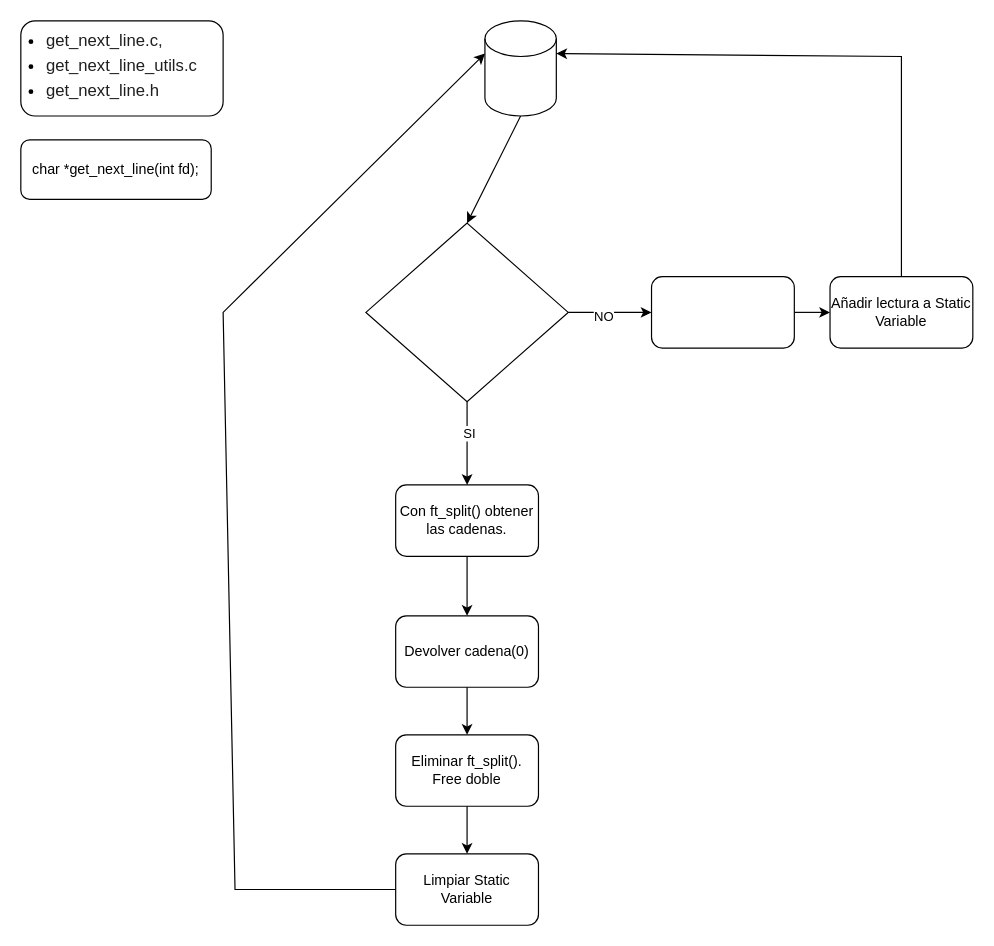
The diagram is 994 pixels wide and 946 high, and some of its shapes have lost their labels. Each missing label, with the centre of its shape:
"Comprobar si en Static Variable hay salto de linea o EOF" belongs at point 466,312.
"Leer FD considerando BUFFER_SIZE" belongs at point 722,311.
"Static variable" belongs at point 520,68.
